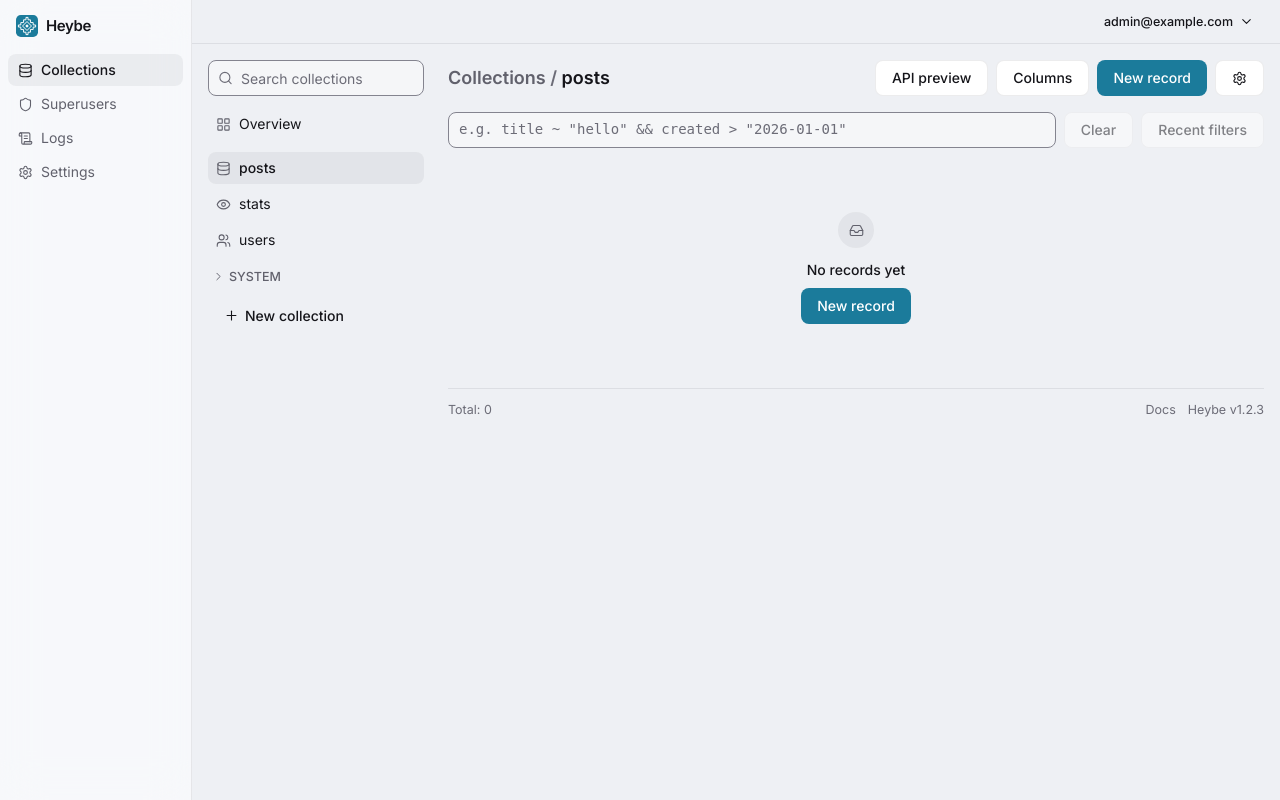
Test case: Sign out clears the store and shows /login
Click the button "admin@example.com": click(1179, 22) [1094, 8, 1264, 36]
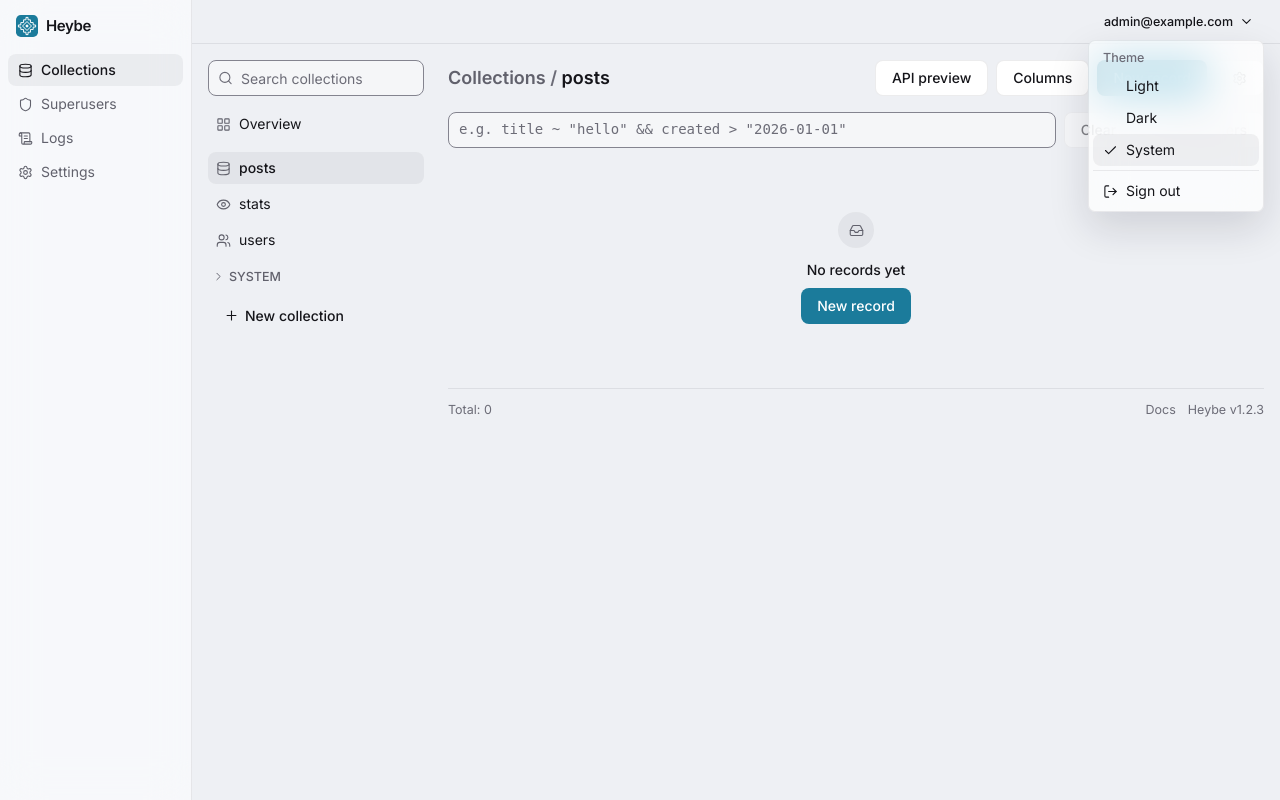
Click the menu item "Sign out": click(1142, 190) [1103, 182, 1180, 199]
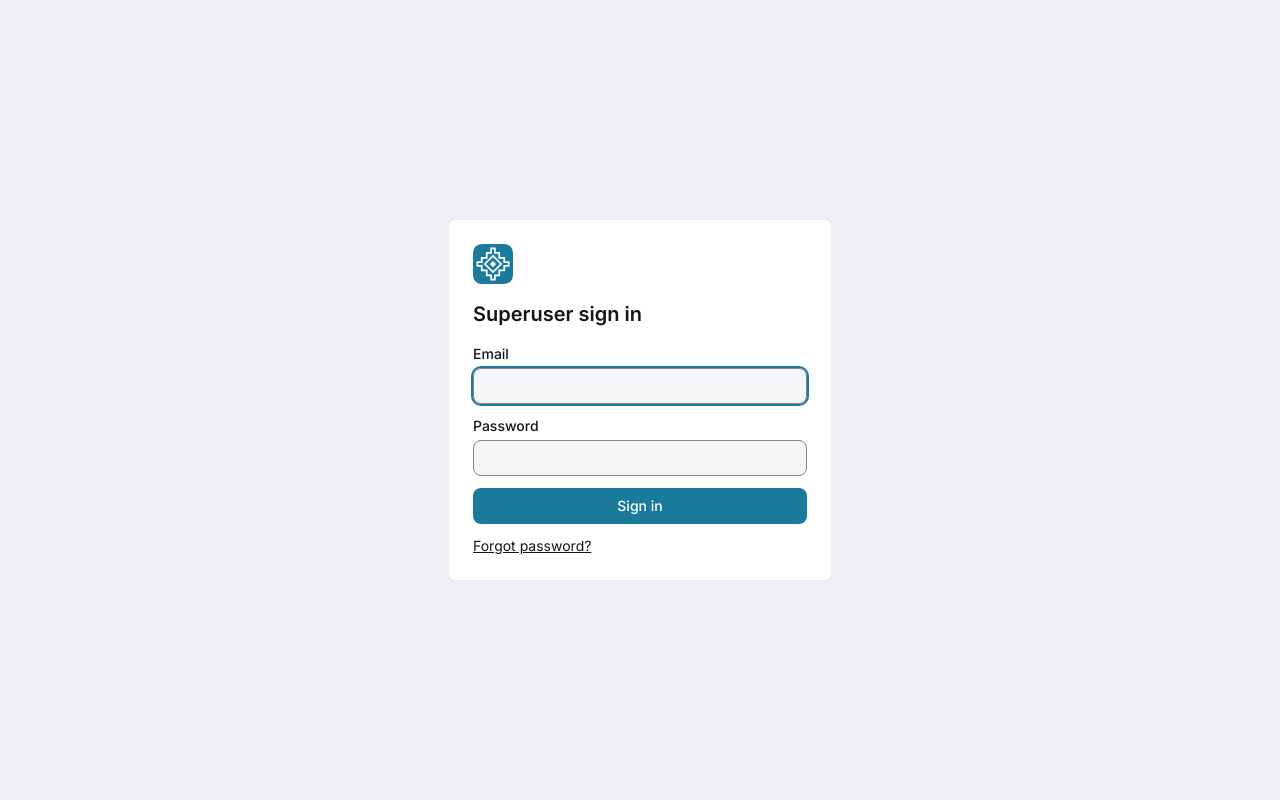
Result: the field labelled "Email" is shown at [473, 368, 807, 404]
